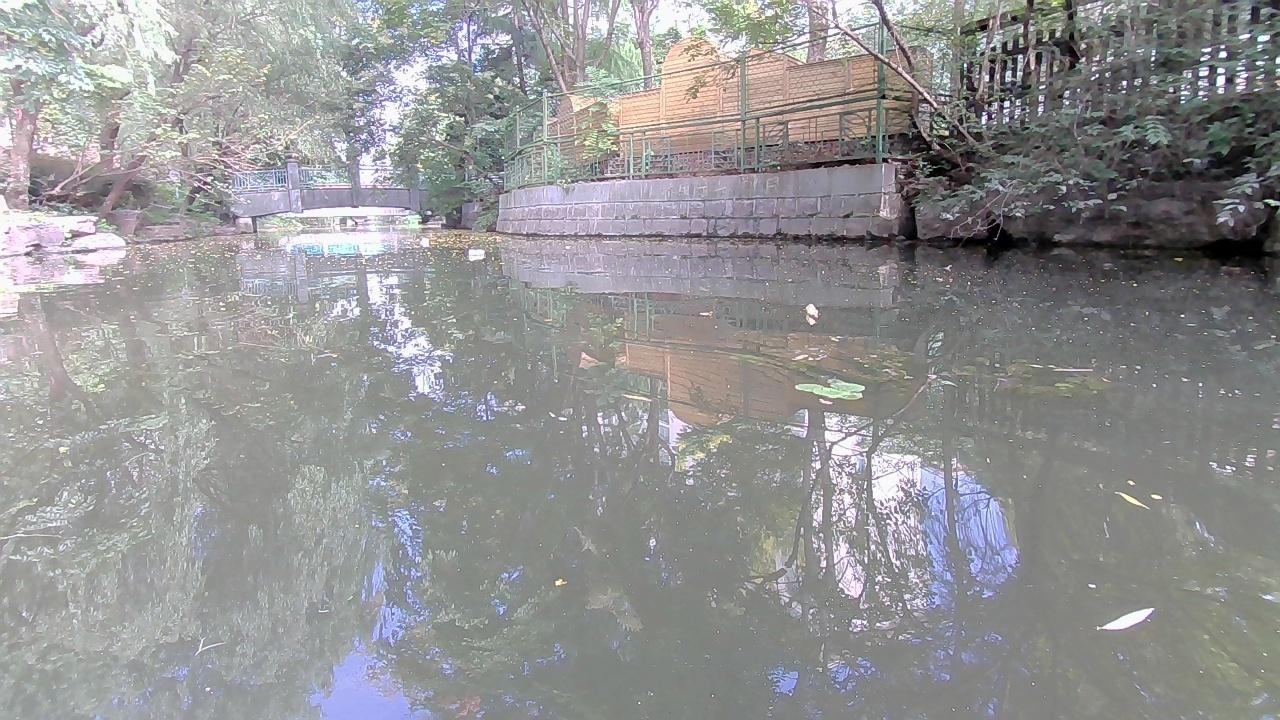bottle: (466, 249, 484, 258), (419, 237, 430, 245)
